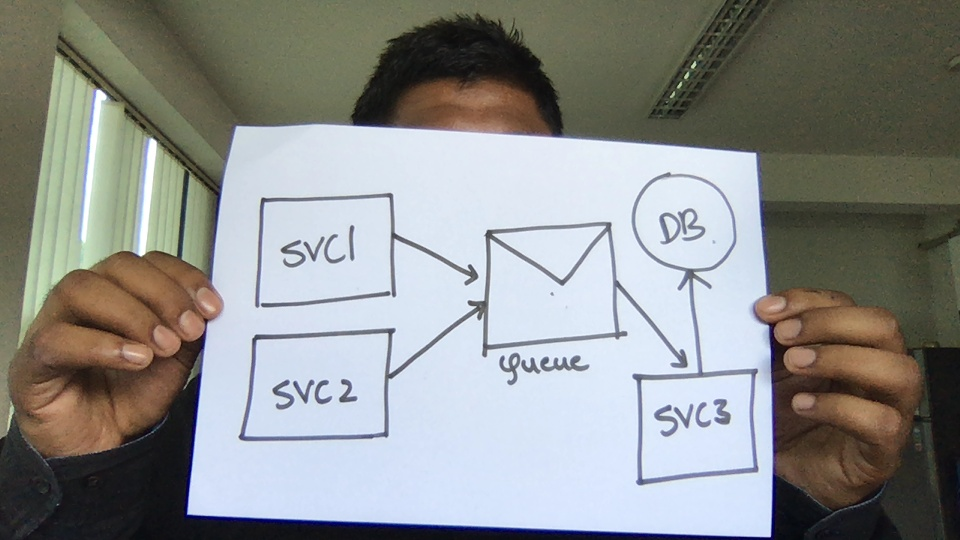db: (626, 167, 744, 280)
ec2: (238, 327, 405, 442), (620, 361, 763, 488), (253, 192, 402, 310)
sns: (479, 219, 625, 366)
